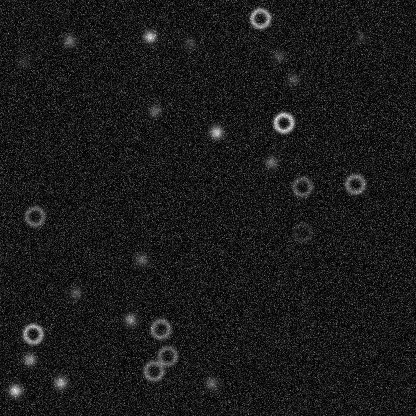Ring: (141, 358, 165, 382), (271, 110, 295, 134), (155, 343, 179, 367), (343, 171, 367, 195), (248, 6, 272, 30), (290, 174, 314, 198), (22, 204, 46, 228), (290, 220, 314, 244), (20, 321, 44, 345), (148, 316, 172, 340)
Spot: (270, 48, 286, 64), (146, 102, 162, 118), (61, 32, 77, 48), (203, 375, 219, 391), (15, 53, 31, 69), (7, 382, 23, 398), (21, 351, 37, 367), (133, 251, 149, 267), (122, 311, 138, 327), (182, 35, 198, 51), (67, 284, 83, 300), (208, 124, 224, 140), (263, 154, 279, 170), (353, 29, 369, 45), (285, 71, 301, 87), (52, 374, 68, 390), (141, 28, 157, 44)
